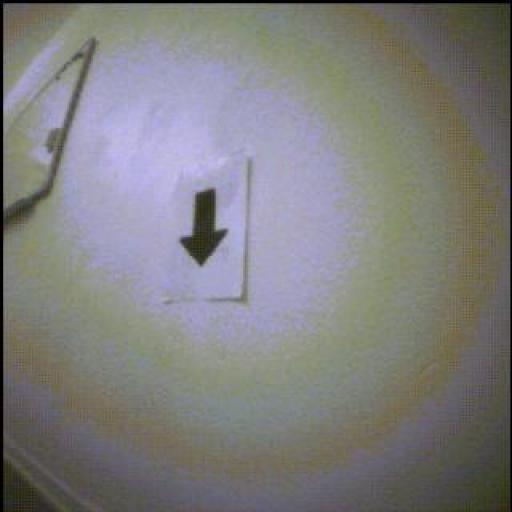arrow: (180, 190, 228, 267), (46, 129, 63, 155)
